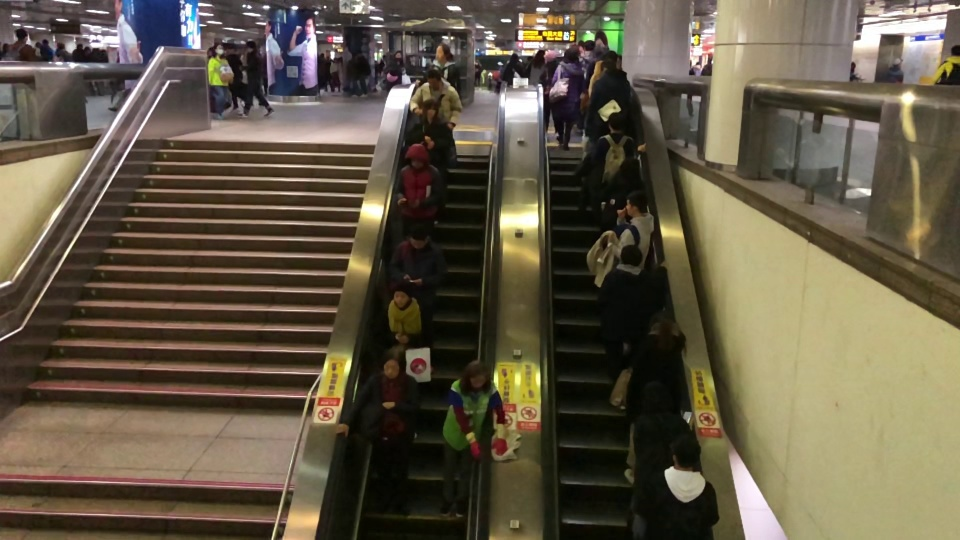person_head: (671, 435, 700, 470), (643, 380, 671, 414), (382, 345, 407, 378), (405, 142, 432, 170), (466, 359, 490, 387), (624, 190, 649, 216), (392, 280, 413, 309), (618, 157, 642, 182), (618, 243, 642, 267), (647, 308, 673, 330), (408, 222, 428, 247), (422, 97, 439, 120), (606, 111, 624, 132), (435, 42, 452, 62), (424, 68, 441, 87), (563, 47, 579, 64), (600, 57, 616, 73), (15, 27, 28, 43), (603, 49, 617, 62), (545, 49, 558, 62), (583, 39, 596, 52), (212, 42, 224, 55), (393, 49, 403, 63), (534, 50, 544, 62), (227, 43, 237, 54), (246, 40, 256, 51), (510, 51, 520, 62), (951, 43, 960, 55), (893, 56, 903, 66), (706, 54, 712, 64), (57, 42, 64, 50), (850, 61, 855, 72), (42, 39, 49, 46), (696, 61, 701, 67)
person_vbox: (622, 308, 687, 486), (631, 380, 701, 533), (334, 345, 421, 455), (599, 244, 669, 377), (387, 222, 446, 375), (376, 280, 431, 444), (646, 434, 721, 540), (442, 359, 508, 458), (404, 97, 454, 226), (395, 141, 445, 236), (590, 110, 648, 186), (608, 190, 654, 269), (551, 47, 585, 153), (590, 58, 631, 142), (409, 68, 462, 130), (599, 157, 642, 232), (238, 40, 276, 120), (415, 41, 463, 94), (1, 27, 37, 84), (208, 41, 234, 117), (587, 50, 617, 98), (929, 43, 960, 85), (226, 45, 244, 115), (384, 48, 412, 91), (525, 50, 548, 87), (502, 50, 523, 84), (883, 55, 904, 83), (578, 39, 597, 69), (40, 39, 56, 62), (52, 41, 69, 62), (850, 60, 865, 82), (700, 53, 712, 76), (693, 60, 702, 76)
